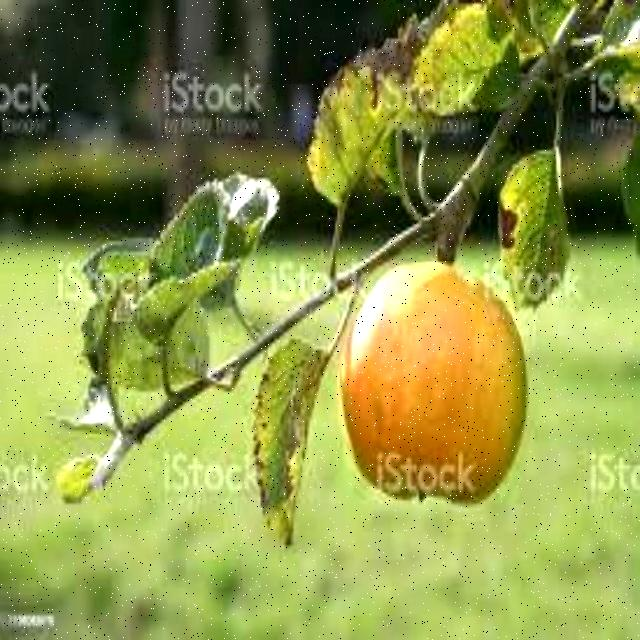HEALTHY: (348, 226, 542, 510)
